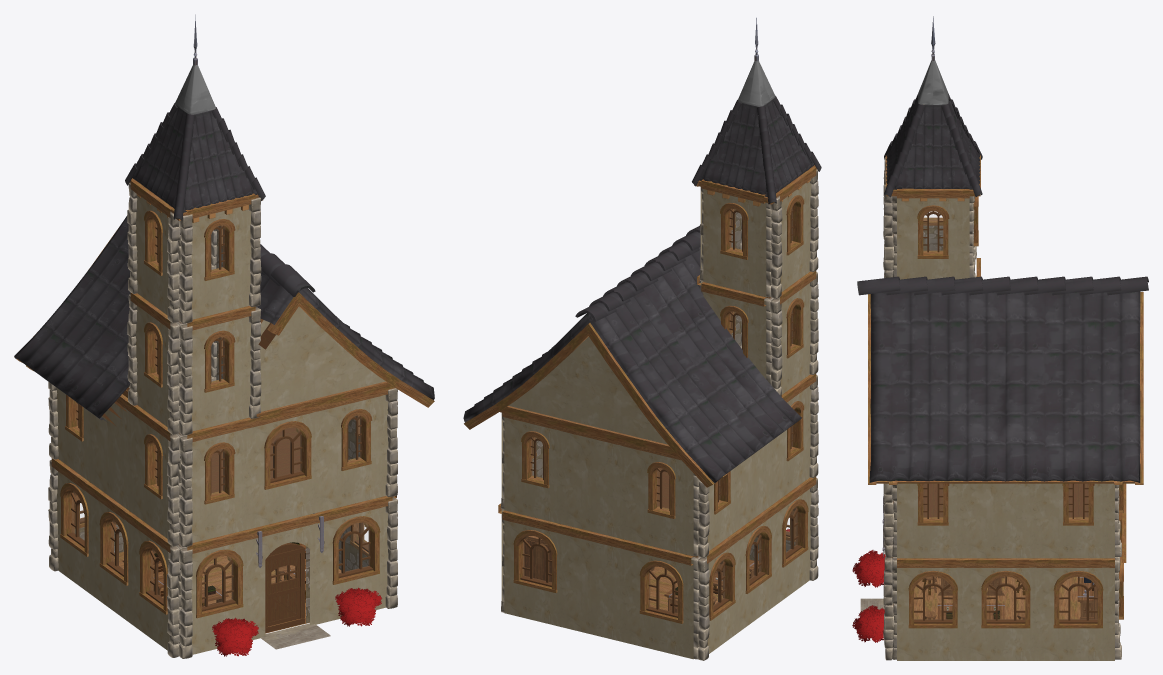
File: School.glb
The picture shows the model from 3 angles, left to right: view 1: azimuth 30°, elevation 25°; view 2: azimuth 150°, elevation 25°; view 3: azimuth 270°, elevation 25°; orthographic projection. The views are drawn at different scales.
Parts seen in each view (by area): view 1: Roof_RoundTiles_6x6.003, Roof_Tower_RoundTiles.003, Roof_Front_Brick6.010, Wall_UnevenBrick_Window_Thin_Round.017, Wall_UnevenBrick_Window_Thin_Round.016, Wall_UnevenBrick_Window_Thin_Round.024, Wall_UnevenBrick_Window_Wide_Round.033, Wall_UnevenBrick_Window_Thin_Round.003, Wall_UnevenBrick_Door_Round.007, Wall_UnevenBrick_Straight.036, Wall_UnevenBrick_Window_Wide_Round.024, Wall_UnevenBrick_Window_Wide_Round.023 (+38 smaller); view 2: Roof_RoundTiles_6x6.003, Roof_Tower_RoundTiles.003, Roof_Front_Brick6.011, Wall_UnevenBrick_Straight.034, Wall_UnevenBrick_Straight.035, Wall_UnevenBrick_Window_Thin_Round.005, Wall_UnevenBrick_Window_Thin_Round.019, Wall_UnevenBrick_Window_Thin_Round.018, Wall_UnevenBrick_Window_Wide_Round.025, Wall_UnevenBrick_Window_Wide_Round.026, Wall_UnevenBrick_Window_Wide_Round.028, Wall_UnevenBrick_Window_Thin_Round.020 (+30 smaller); view 3: Roof_RoundTiles_6x6.003, Roof_Tower_RoundTiles.003, Wall_UnevenBrick_Straight.037, Wall_UnevenBrick_Window_Wide_Round.031, Wall_UnevenBrick_Window_Wide_Round.030, Wall_UnevenBrick_Window_Wide_Round.032, Wall_UnevenBrick_Window_Thin_Round.028, Wall_UnevenBrick_Window_Thin_Round.023, Wall_UnevenBrick_Window_Thin_Round.022, Window_Wide_Round1.047, Window_Wide_Round1.048, Window_Wide_Round1.046 (+15 smaller).
Part boxes in pixels (x1=…): Roof_RoundTiles_6x6.003: x1=14, y1=215, x2=434, y2=426; Roof_Tower_RoundTiles.003: x1=125, y1=14, x2=265, y2=222; Roof_Front_Brick6.010: x1=256, y1=306, x2=394, y2=416; Wall_UnevenBrick_Window_Thin_Round.017: x1=322, y1=389, x2=391, y2=511; Wall_UnevenBrick_Window_Thin_Round.016: x1=187, y1=417, x2=255, y2=542; Wall_UnevenBrick_Window_Thin_Round.024: x1=187, y1=306, x2=255, y2=430; Wall_UnevenBrick_Window_Wide_Round.033: x1=253, y1=403, x2=323, y2=528; Wall_UnevenBrick_Window_Thin_Round.003: x1=185, y1=193, x2=255, y2=319; Wall_UnevenBrick_Door_Round.007: x1=253, y1=511, x2=323, y2=639; Wall_UnevenBrick_Straight.036: x1=95, y1=390, x2=134, y2=514; Wall_UnevenBrick_Window_Wide_Round.024: x1=322, y1=496, x2=392, y2=623; Wall_UnevenBrick_Window_Wide_Round.023: x1=187, y1=528, x2=255, y2=654; Roof_RoundTiles_6x6.003: x1=463, y1=224, x2=801, y2=487; Roof_Tower_RoundTiles.003: x1=692, y1=17, x2=821, y2=206; Roof_Front_Brick6.011: x1=500, y1=336, x2=676, y2=455; Wall_UnevenBrick_Straight.034: x1=565, y1=525, x2=630, y2=643; Wall_UnevenBrick_Straight.035: x1=565, y1=428, x2=630, y2=540; Wall_UnevenBrick_Window_Thin_Round.005: x1=701, y1=179, x2=766, y2=296; Wall_UnevenBrick_Window_Thin_Round.019: x1=502, y1=413, x2=567, y2=525; Wall_UnevenBrick_Window_Thin_Round.018: x1=628, y1=443, x2=693, y2=556; Wall_UnevenBrick_Window_Wide_Round.025: x1=628, y1=541, x2=697, y2=659; Wall_UnevenBrick_Window_Wide_Round.026: x1=502, y1=510, x2=567, y2=628; Wall_UnevenBrick_Window_Wide_Round.028: x1=740, y1=502, x2=779, y2=631; Wall_UnevenBrick_Window_Thin_Round.020: x1=776, y1=374, x2=816, y2=501; Roof_RoundTiles_6x6.003: x1=857, y1=276, x2=1148, y2=484; Roof_Tower_RoundTiles.003: x1=884, y1=16, x2=982, y2=201; Wall_UnevenBrick_Straight.037: x1=969, y1=483, x2=1042, y2=558; Wall_UnevenBrick_Window_Wide_Round.031: x1=969, y1=558, x2=1042, y2=660; Wall_UnevenBrick_Window_Wide_Round.030: x1=897, y1=558, x2=969, y2=660; Wall_UnevenBrick_Window_Wide_Round.032: x1=1042, y1=558, x2=1114, y2=660; Wall_UnevenBrick_Window_Thin_Round.028: x1=897, y1=188, x2=969, y2=279; Wall_UnevenBrick_Window_Thin_Round.023: x1=1042, y1=483, x2=1114, y2=558; Wall_UnevenBrick_Window_Thin_Round.022: x1=897, y1=483, x2=969, y2=558; Window_Wide_Round1.047: x1=981, y1=570, x2=1030, y2=628; Window_Wide_Round1.048: x1=1053, y1=570, x2=1103, y2=628; Window_Wide_Round1.046: x1=908, y1=570, x2=957, y2=628.
Size of the model in its own units: 8.25 by 17.4 by 8.23.
Materials: 49 (44 with a texture image).
